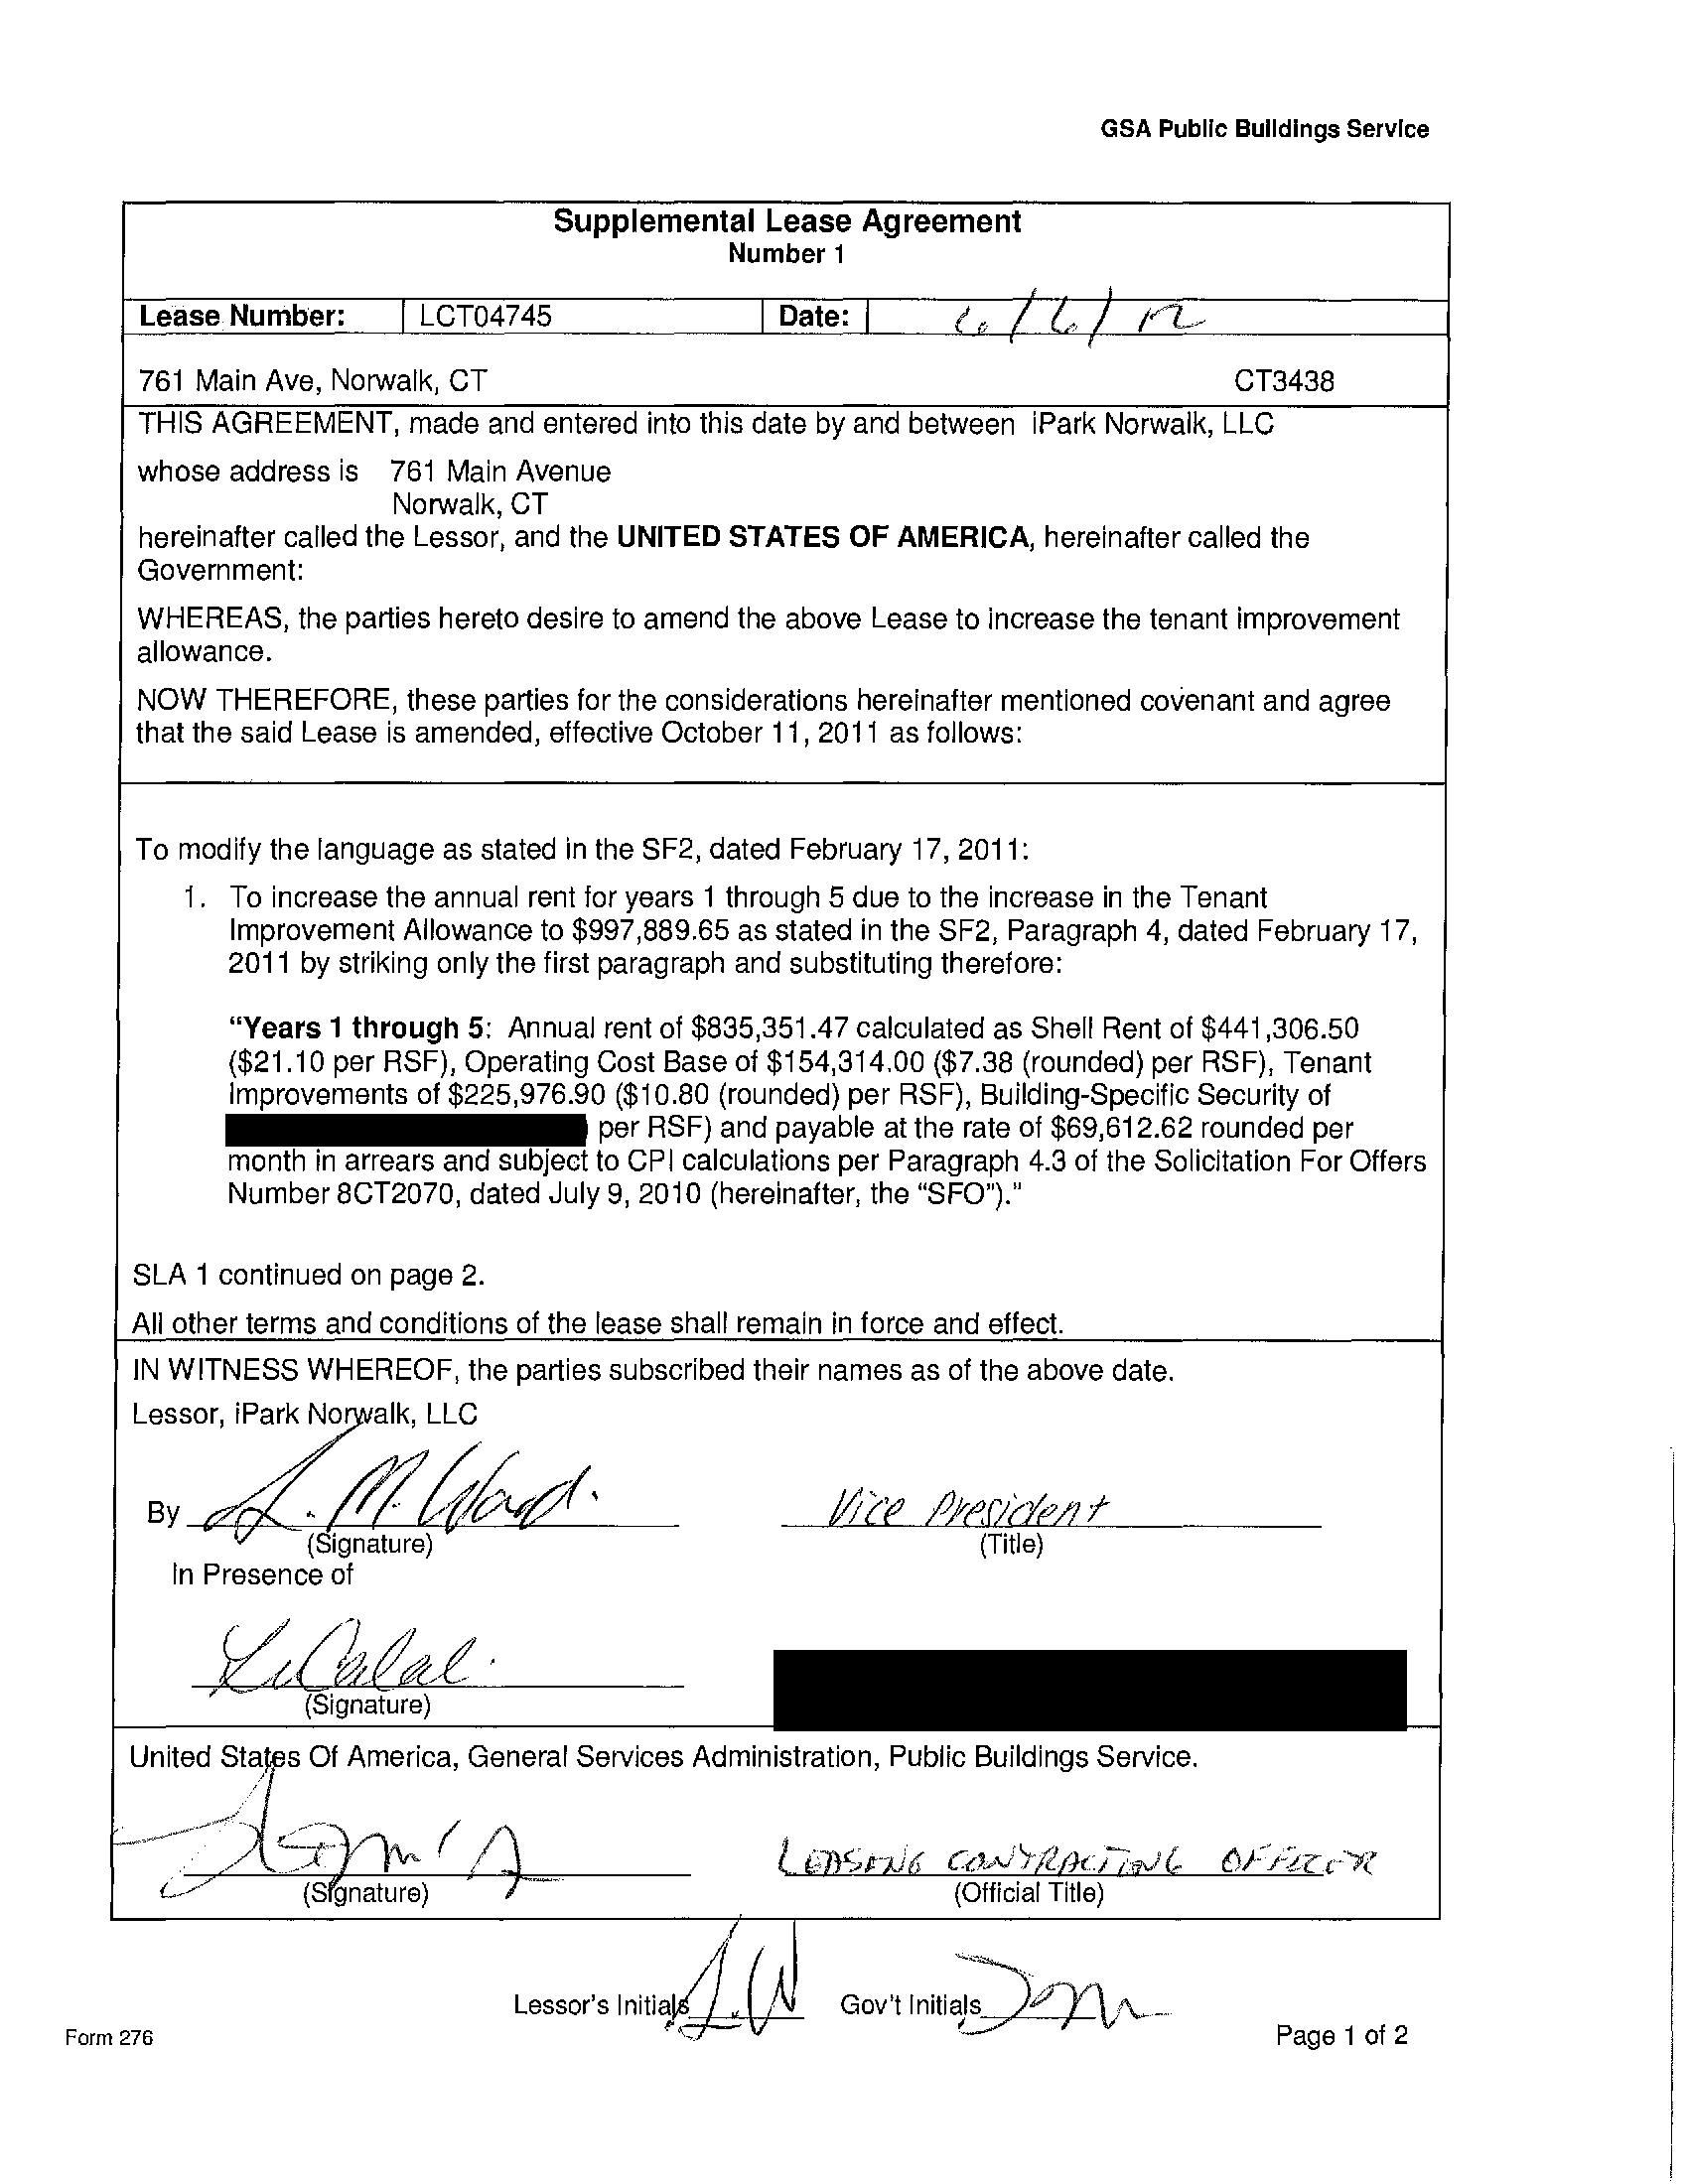handwritten: (144, 1774, 576, 1895), (191, 1420, 605, 1535), (766, 1829, 1395, 1884), (200, 1595, 493, 1704), (949, 1934, 1181, 2049), (668, 1920, 817, 2042), (821, 1471, 1119, 1528), (931, 298, 1209, 340)
